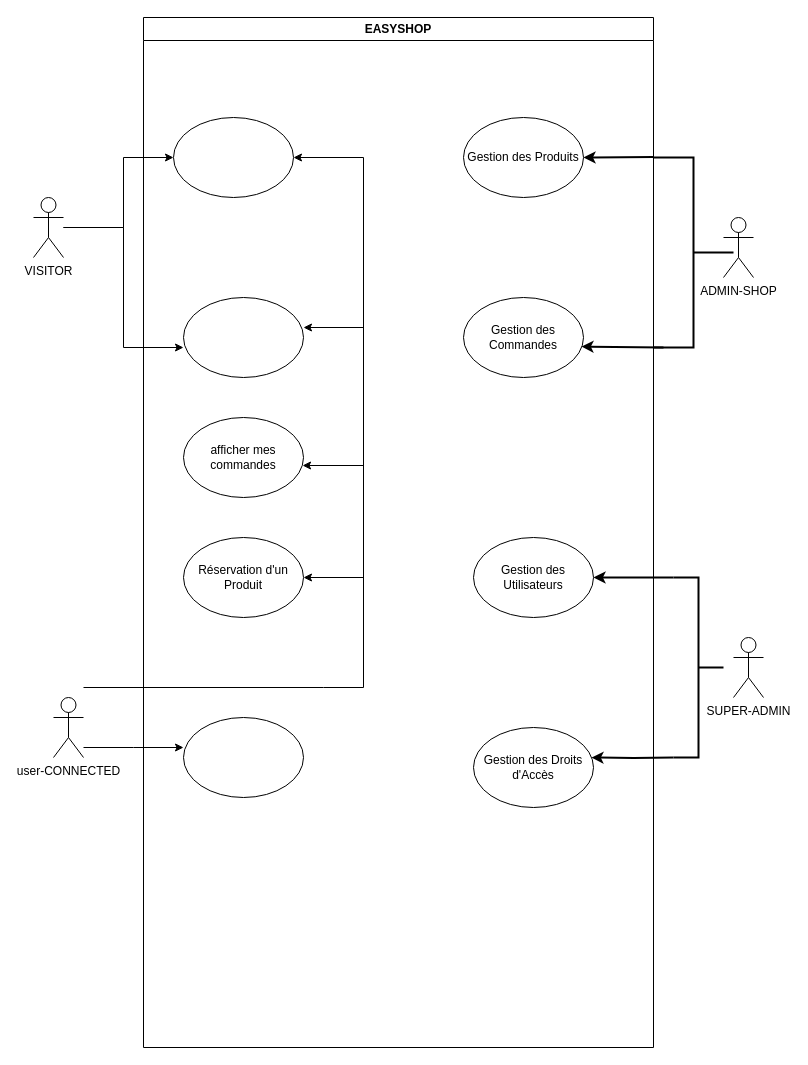
Image size: 808x1065. Some labels were removed from this diagram. The box of each missing label's shape, as (x1, y1, x2, y2) in pixels:
Affichage des Détails d'un Produit: (182, 296, 304, 378)
Consultation des Produits: (172, 116, 294, 198)
Écrire un Commentaire: (182, 716, 304, 798)
